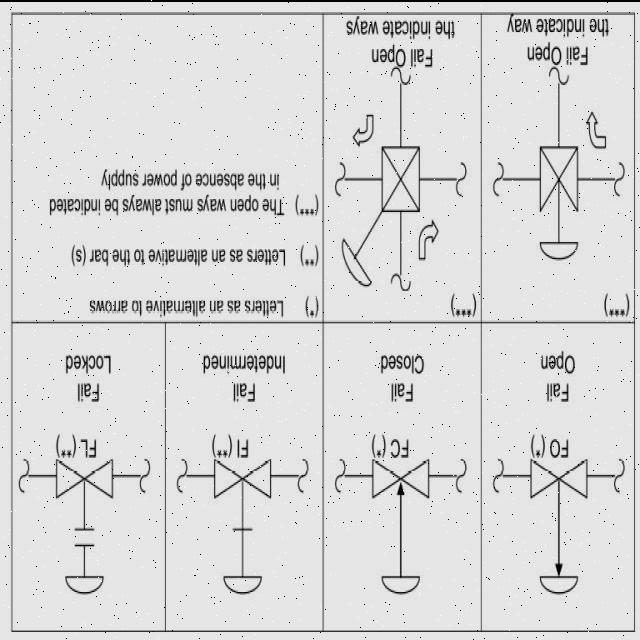Fail Closed Safe Position: (357, 452, 441, 602)
Fail Indeterminate Safe Position: (200, 460, 283, 610)
Fail Lock Safe Position: (51, 456, 121, 614)
Fail Open Safe Position: (524, 454, 596, 602)
